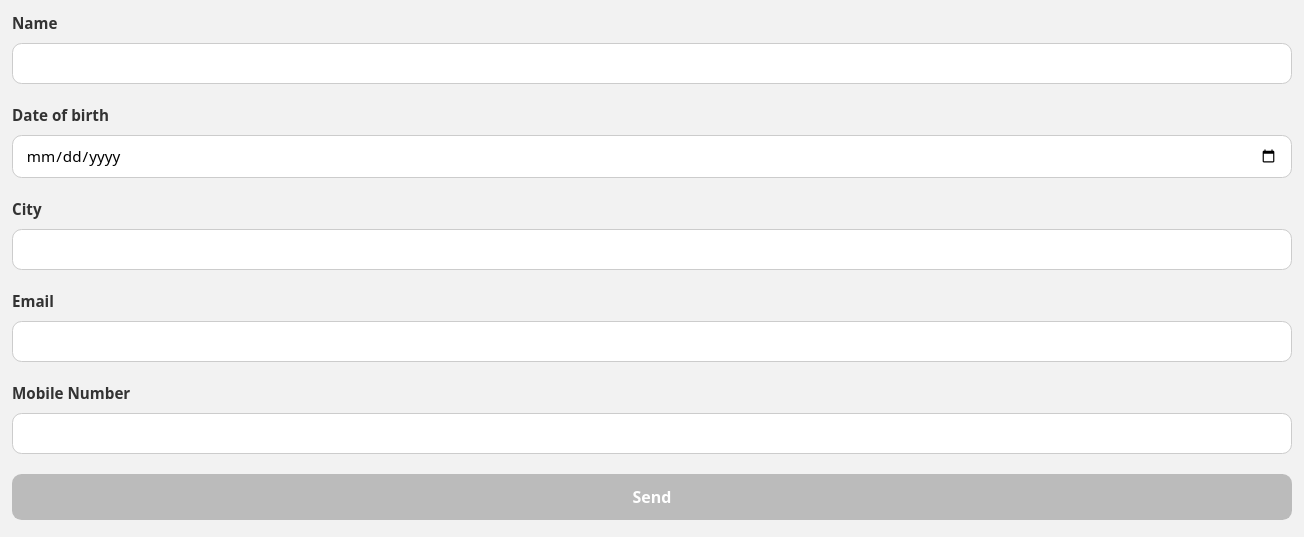
Test: ContactForm › enables submit button only when all fields are filled and valid
Type "Julian" into the field labelled "Name". click: (652,63)
box: [12,43,1292,84]
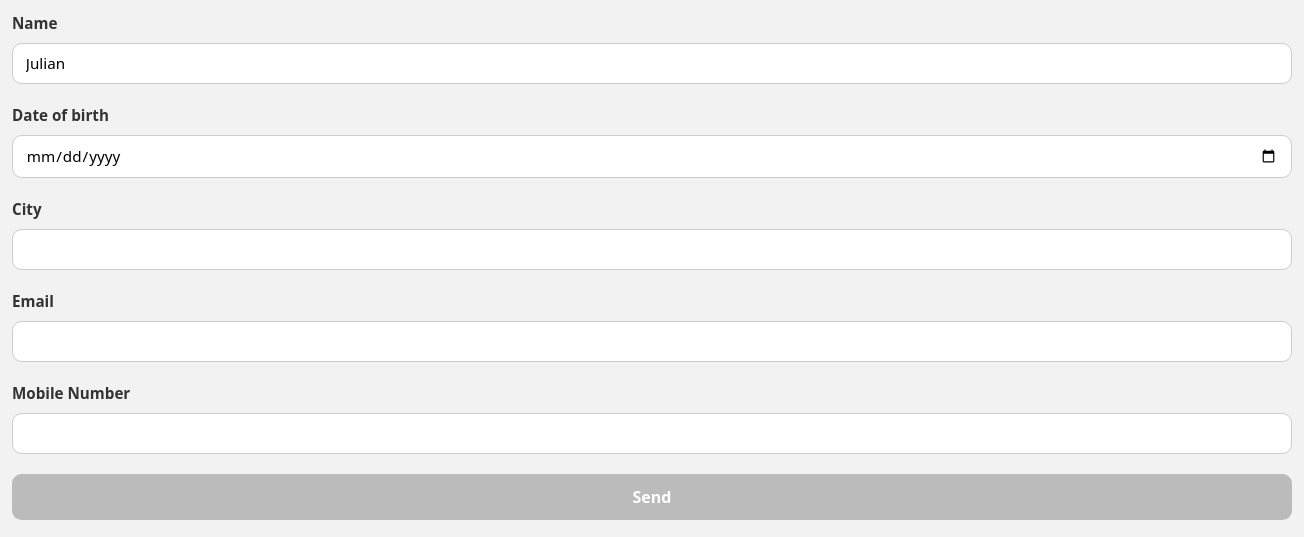
Type "Valencia" into the field labelled "City". click: (652,249)
box: [12,229,1292,270]
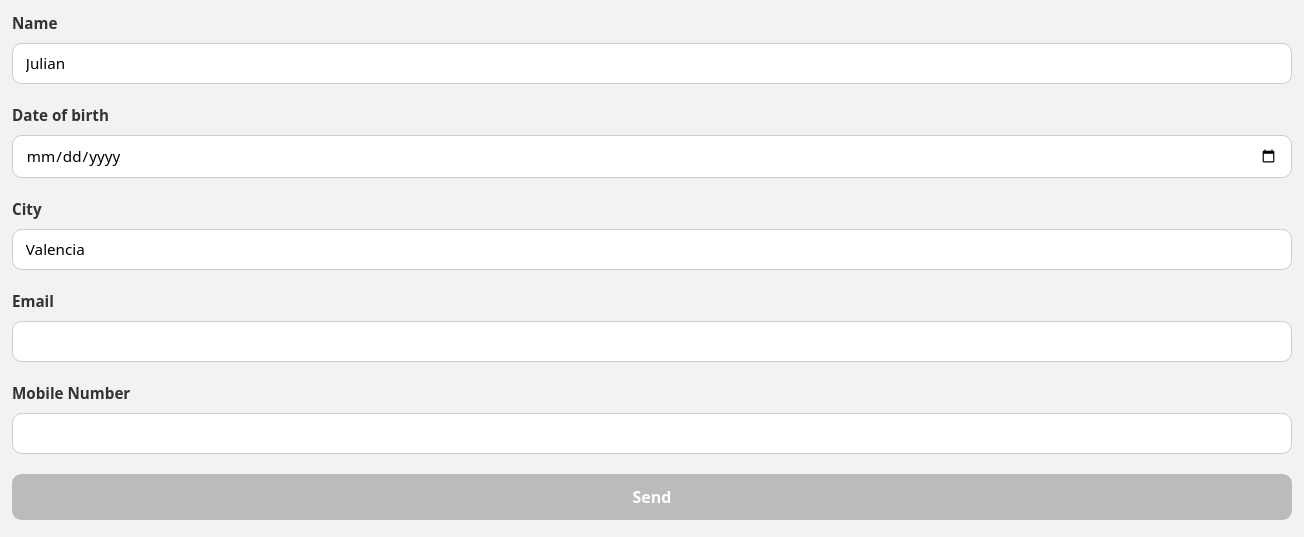
Type "julian@test.com" into the field labelled "Email". click: (652,341)
box: [12,321,1292,362]
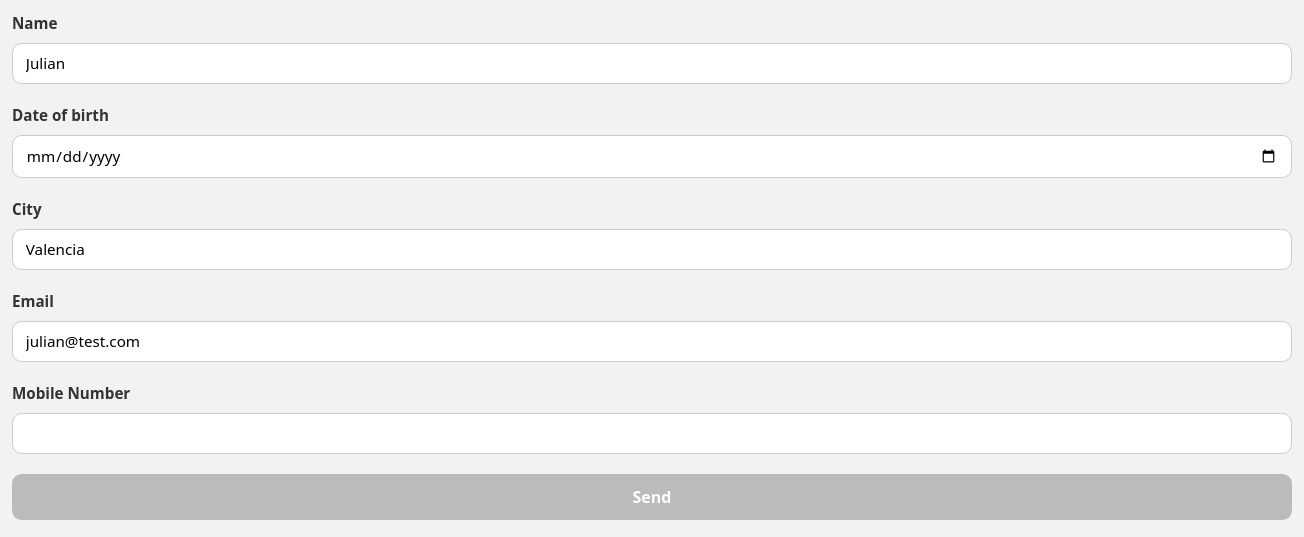
Type "abc123" into the field labelled "Mobile Number". click: (652,433)
box: [12,413,1292,454]
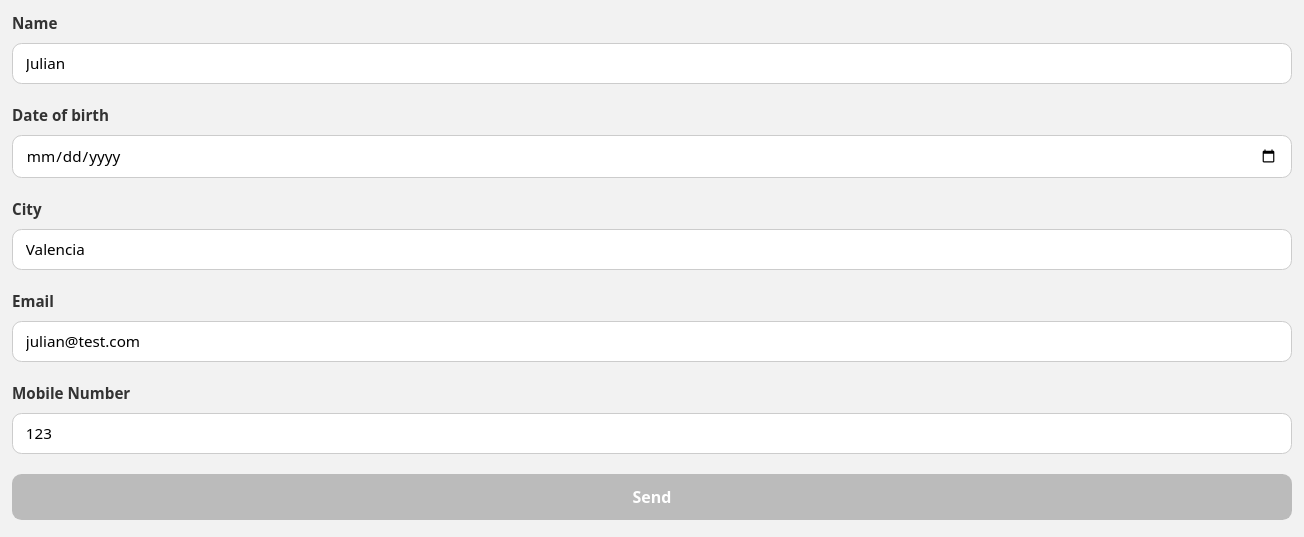
Type "2000-01-01" into the date field labelled "Date of birth". click: (652,156)
box: [12,135,1292,178]
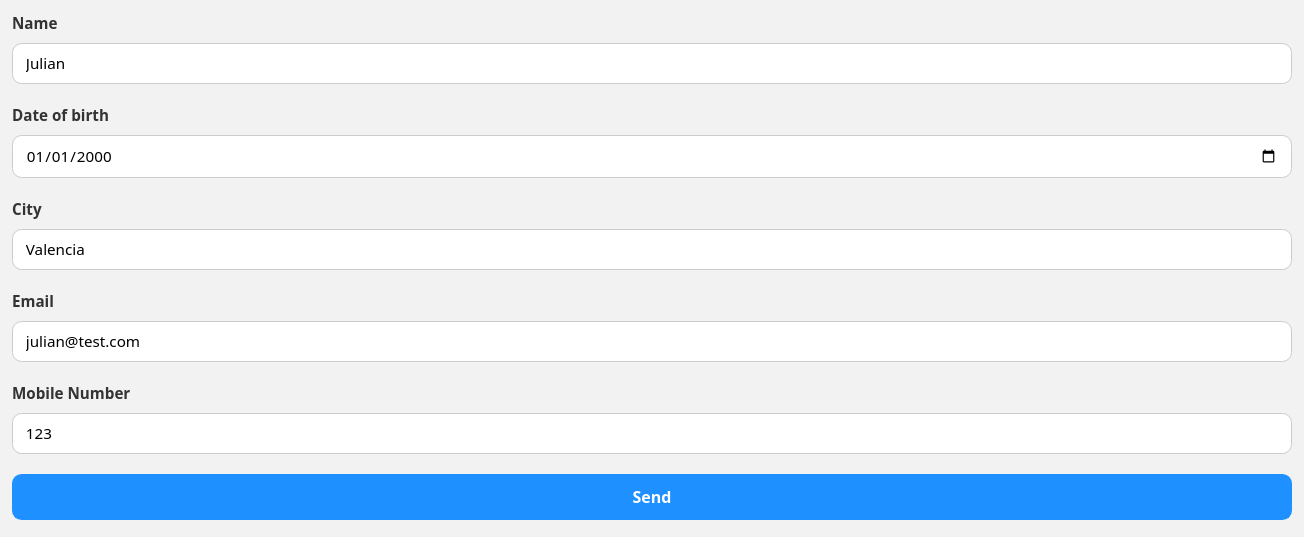
Result: the field labelled "Mobile Number" holds "123" at [12,413,1292,454]
Result: the button "Send" is enabled at [12,474,1292,520]
